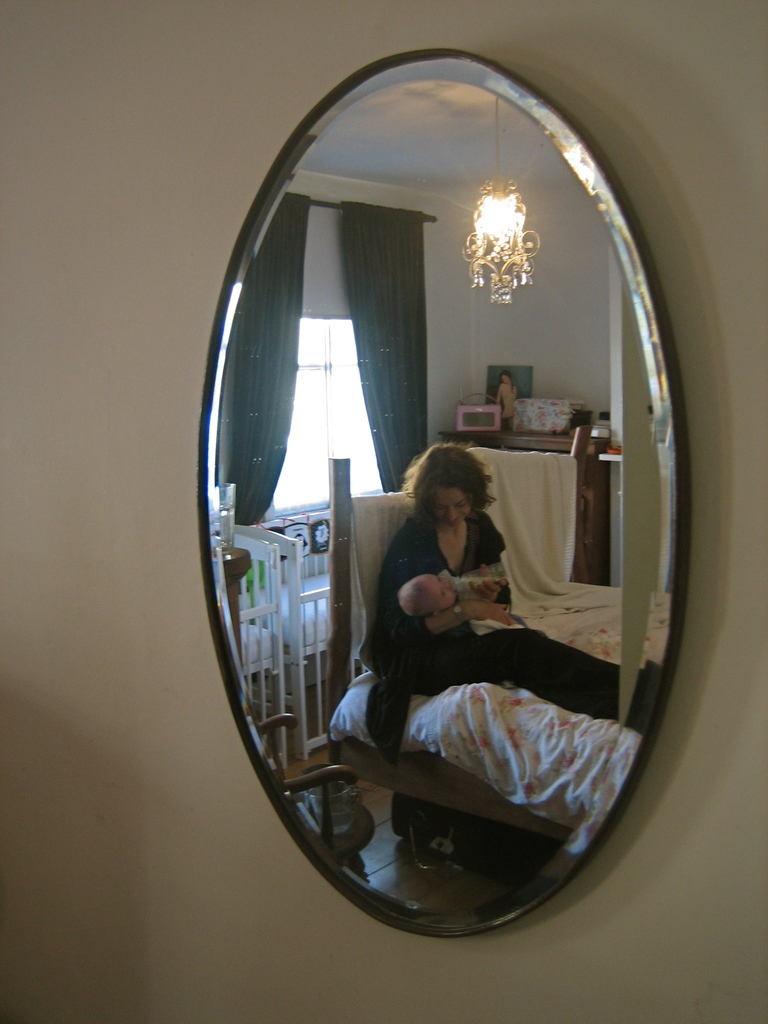Human-face: (432, 492, 470, 526), (424, 574, 458, 609)
